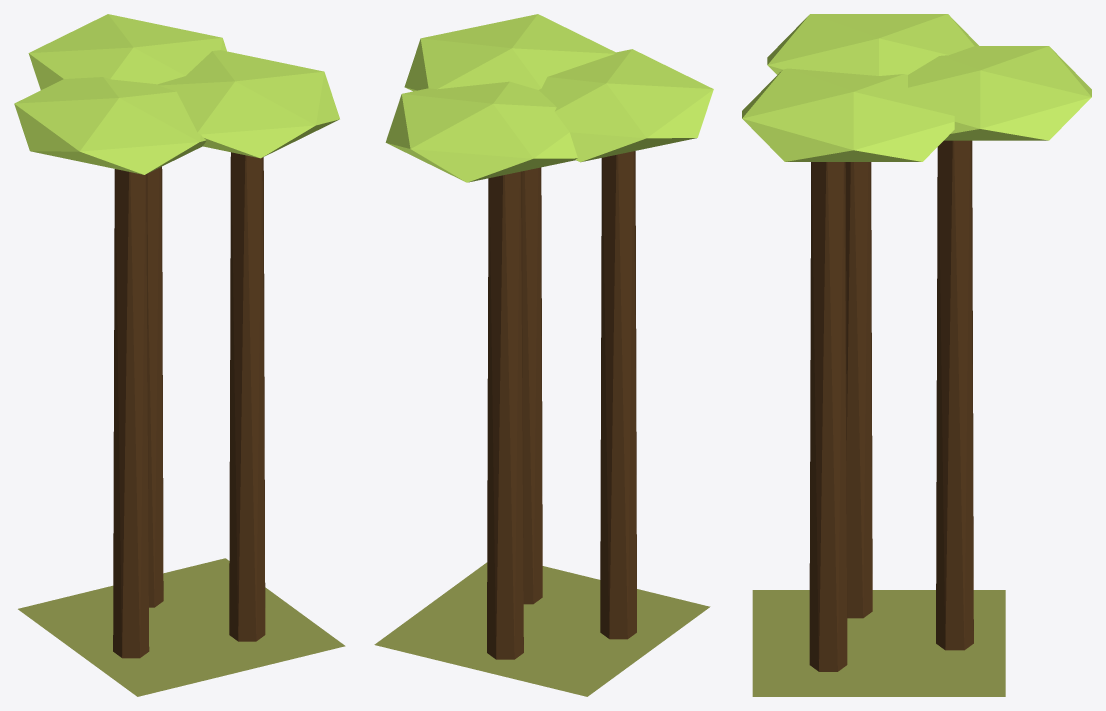
Rendered from forest03.glb.
3 views of the same model, side by side, from view 1: azimuth 30°, elevation 25°; view 2: azimuth 150°, elevation 25°; view 3: azimuth 270°, elevation 25° (orthographic). The views are drawn at different scales.
Parts seen in each view (by area): view 1: tree01-col.005, tree01-col.006, forest03-col, tree01-col.004; view 2: tree01-col.004, tree01-col.005, forest03-col, tree01-col.006; view 3: tree01-col.006, tree01-col.004, tree01-col.005, forest03-col.
Boxes of the visible parts, box(x1,y1,x2,y2) form: tree01-col.005: box(14, 77, 206, 658); tree01-col.006: box(158, 50, 339, 641); forest03-col: box(18, 558, 345, 696); tree01-col.004: box(28, 14, 226, 607); tree01-col.004: box(385, 81, 577, 659); tree01-col.005: box(539, 49, 713, 639); forest03-col: box(374, 562, 710, 696); tree01-col.006: box(404, 14, 615, 604); tree01-col.006: box(742, 68, 954, 671); tree01-col.004: box(908, 46, 1091, 650); tree01-col.005: box(767, 14, 978, 618); forest03-col: box(752, 590, 1005, 696).
Bounding box in the file's own units: 13.57 × 25 × 13.83.
